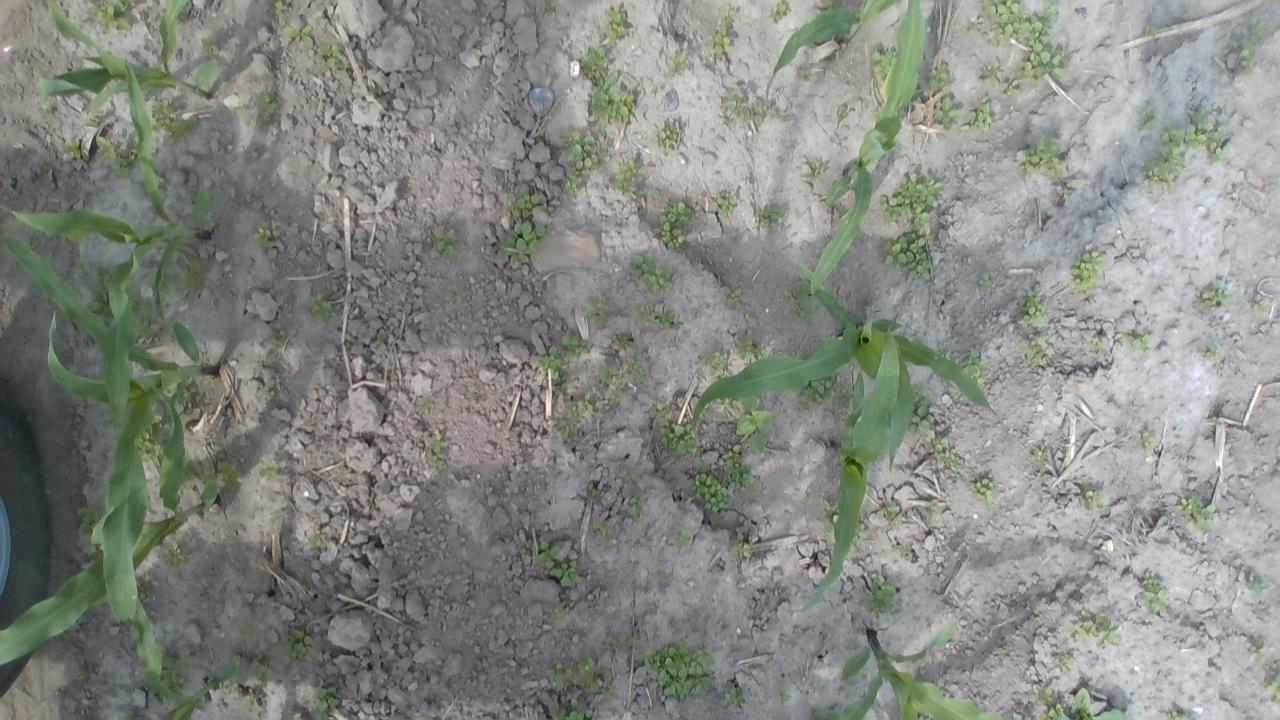Maize: (0, 228, 219, 636), (0, 57, 212, 430), (691, 262, 1005, 470), (0, 388, 230, 666), (808, 0, 924, 298), (90, 510, 217, 720), (36, 0, 220, 111), (788, 369, 869, 621), (816, 615, 1000, 720), (764, 0, 904, 99)
Weeds: (1142, 105, 1232, 192), (640, 632, 717, 703), (578, 44, 636, 130), (1016, 1, 1066, 88), (879, 171, 944, 231), (545, 652, 618, 701), (650, 398, 709, 456), (556, 130, 608, 194), (879, 230, 939, 282), (1038, 686, 1126, 720), (70, 255, 114, 322), (596, 356, 648, 412), (144, 96, 194, 148), (648, 200, 694, 252), (1016, 136, 1068, 181), (494, 221, 548, 264), (735, 394, 773, 454), (980, 0, 1028, 47), (1063, 613, 1122, 651), (125, 282, 162, 338), (77, 0, 136, 34), (628, 252, 673, 296), (132, 414, 168, 468), (96, 134, 136, 180), (721, 442, 755, 496), (797, 370, 839, 413), (245, 646, 288, 688), (1070, 248, 1107, 296), (690, 470, 730, 514), (1234, 15, 1264, 73), (606, 159, 649, 199), (534, 344, 568, 393), (1172, 496, 1217, 532), (502, 189, 554, 220), (782, 285, 819, 328), (926, 428, 962, 472), (278, 622, 322, 658), (627, 302, 682, 330), (77, 504, 105, 559), (314, 38, 352, 78), (706, 6, 736, 56), (180, 449, 212, 494), (598, 2, 629, 48), (175, 255, 208, 296), (159, 644, 209, 671), (866, 574, 896, 618), (1136, 575, 1168, 616), (904, 386, 932, 432), (423, 430, 452, 474), (735, 100, 781, 127), (956, 349, 989, 386), (580, 292, 611, 330), (548, 557, 586, 588), (650, 123, 684, 157), (1018, 288, 1048, 326), (302, 290, 337, 322), (154, 671, 186, 706), (965, 95, 993, 134), (542, 592, 574, 626), (250, 90, 280, 126), (550, 695, 593, 720), (1196, 286, 1234, 314), (976, 56, 1007, 89), (732, 332, 766, 362), (564, 391, 596, 422), (248, 213, 274, 251), (934, 93, 962, 128), (160, 542, 194, 570), (280, 22, 316, 48), (310, 686, 337, 720), (1020, 335, 1048, 367), (820, 498, 841, 540), (532, 540, 561, 570), (432, 227, 460, 258), (924, 60, 950, 93), (560, 334, 592, 360), (702, 350, 729, 380), (606, 628, 636, 654), (868, 47, 896, 74), (722, 683, 748, 712), (197, 32, 224, 59), (710, 396, 745, 416), (756, 207, 784, 232), (713, 190, 738, 218), (970, 476, 994, 505), (624, 494, 649, 520), (665, 54, 690, 80), (718, 85, 744, 110), (728, 532, 752, 558), (1076, 489, 1105, 510), (1136, 103, 1162, 126), (1128, 330, 1152, 354), (558, 418, 576, 449), (61, 136, 84, 160), (590, 519, 611, 545), (807, 703, 839, 720), (1032, 684, 1056, 706), (999, 77, 1019, 103), (266, 327, 289, 349), (219, 462, 243, 483), (608, 332, 633, 352), (850, 520, 869, 546), (672, 528, 694, 550), (1246, 576, 1268, 598), (768, 0, 792, 20), (1263, 677, 1280, 705), (1140, 432, 1160, 455), (259, 457, 279, 480), (1248, 644, 1270, 664), (61, 414, 84, 433), (974, 272, 995, 292), (442, 285, 462, 306), (722, 286, 742, 306), (1204, 344, 1224, 364), (238, 696, 262, 712), (237, 618, 257, 637), (270, 0, 290, 18), (83, 110, 104, 127), (807, 162, 826, 180), (1055, 652, 1073, 671), (666, 614, 684, 633), (1252, 296, 1270, 314), (1089, 336, 1109, 352), (72, 662, 88, 682), (1110, 330, 1126, 348), (881, 505, 898, 520), (1032, 445, 1047, 462), (776, 688, 791, 705), (416, 399, 434, 413), (1142, 24, 1160, 38), (924, 498, 940, 513), (542, 0, 558, 15), (623, 470, 642, 482), (39, 100, 54, 115), (966, 19, 982, 33), (1166, 710, 1188, 720), (112, 710, 133, 720), (819, 0, 840, 10), (520, 546, 532, 562), (834, 110, 849, 122), (310, 532, 322, 546), (234, 103, 248, 114), (586, 485, 600, 496), (1010, 711, 1026, 720), (894, 544, 906, 556), (206, 302, 217, 312)
